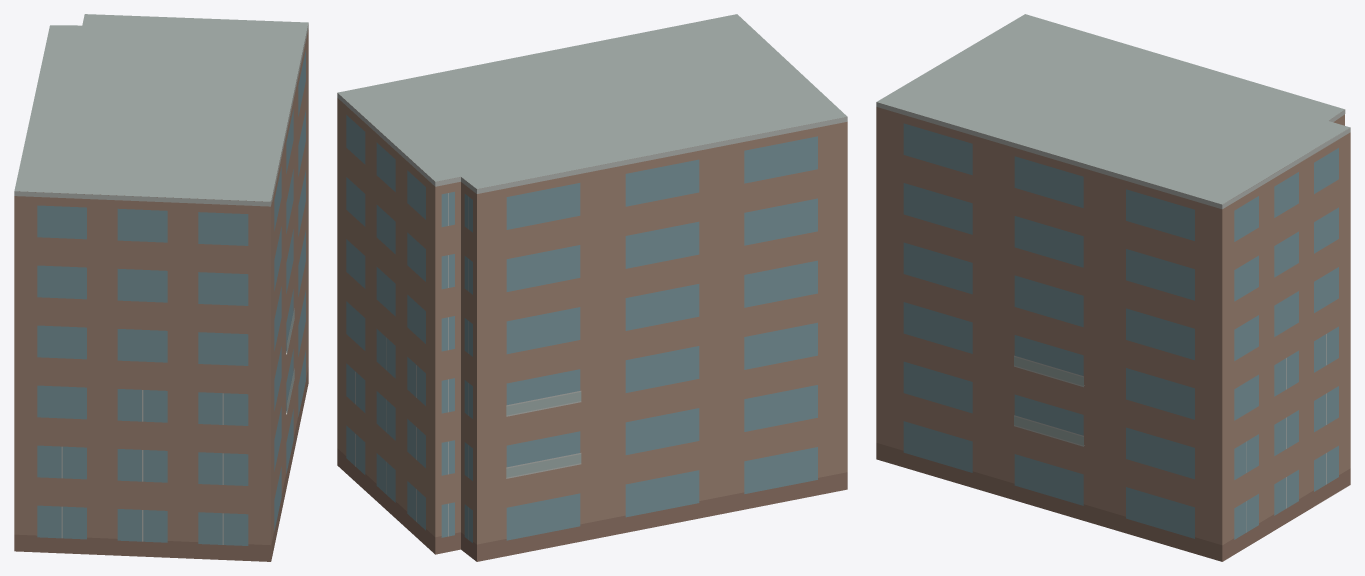
The model's file is survey-upis-32554538.glb.
3 views of the same model, side by side, from view 1: azimuth 30°, elevation 25°; view 2: azimuth 150°, elevation 25°; view 3: azimuth 270°, elevation 25° (orthographic). The views are drawn at different scales.
Visible parts, largest first — view 1: survey-upis-32554538.tmp; view 2: survey-upis-32554538.tmp; view 3: survey-upis-32554538.tmp.
Part boxes in pixels (x1,y1,x2,y2): survey-upis-32554538.tmp: [14, 14, 308, 561]; survey-upis-32554538.tmp: [337, 14, 847, 561]; survey-upis-32554538.tmp: [876, 14, 1350, 561].
Size of the model in its own units: 20.94 by 18.3 by 22.02.
